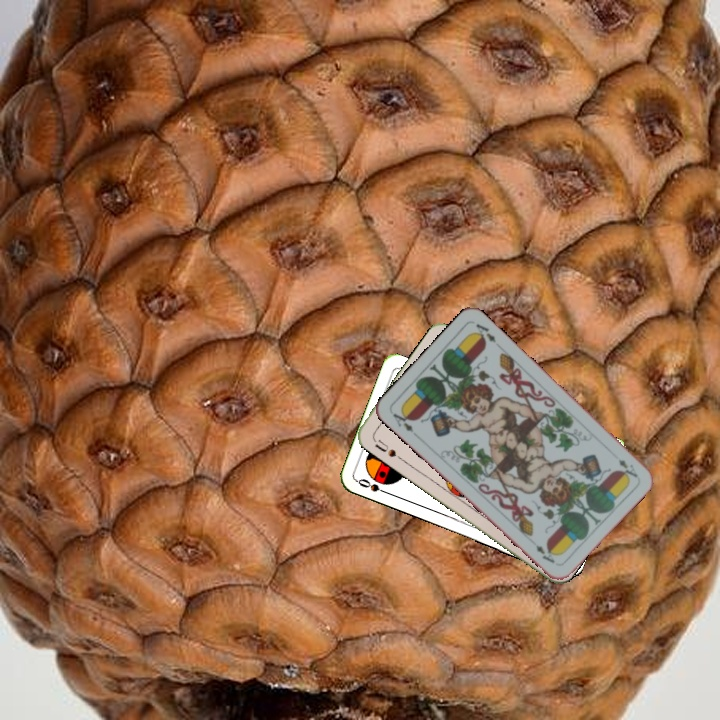EA: (389, 406, 416, 435), (614, 455, 640, 480)
SO: (353, 474, 392, 497)
SU: (369, 434, 405, 463)
